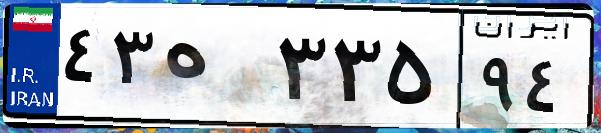3: (270, 28, 330, 110), (330, 28, 385, 110), (110, 28, 158, 98)
4: (57, 26, 110, 100), (525, 38, 570, 115)
5: (385, 28, 445, 110)
9: (475, 38, 525, 113)
ه: (158, 20, 270, 120)
